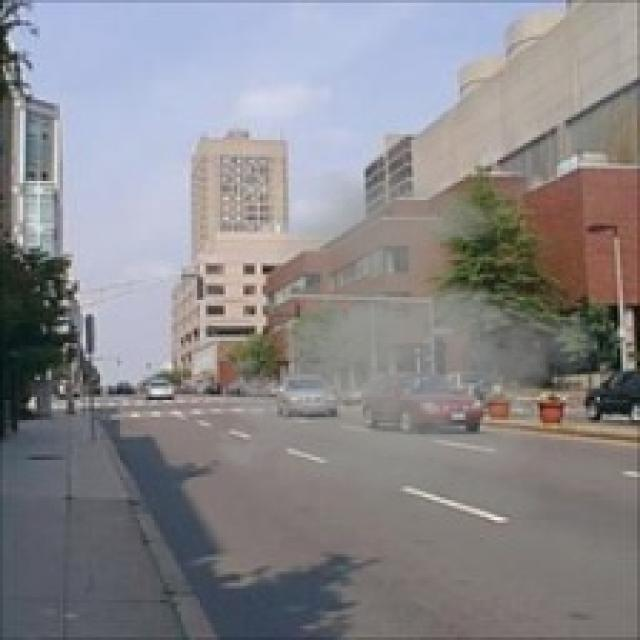smoke: (203, 169, 611, 514)
